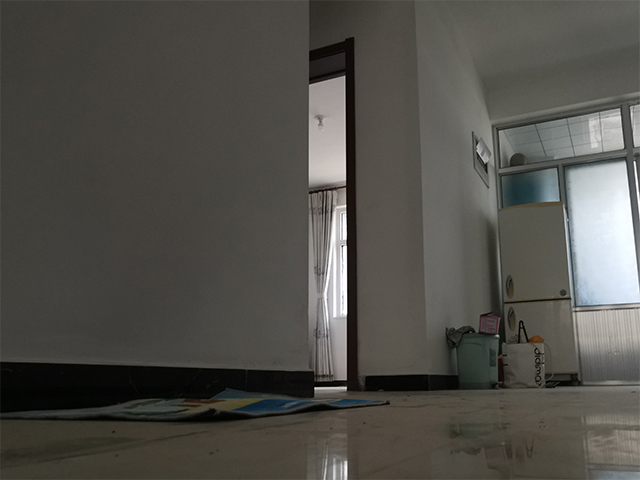carpet: (1, 386, 391, 424)
curtain: (309, 188, 339, 383)
trashcan: (453, 331, 507, 390)
